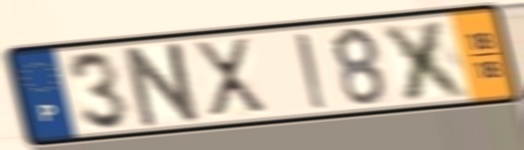3: (65, 48, 132, 132)
8: (331, 26, 389, 108)
I: (292, 30, 332, 112)
N: (122, 38, 206, 131)
X: (377, 17, 476, 104), (191, 35, 272, 119)
